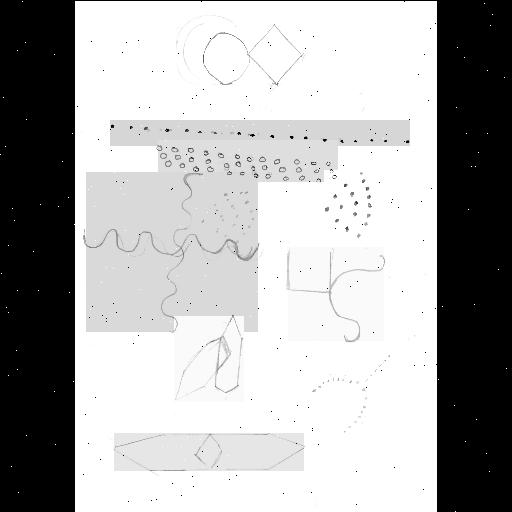shape-1: (204, 23, 302, 83)
shape-2: (110, 120, 410, 146)
shape-3: (158, 140, 338, 182)
shape-4: (324, 170, 374, 240)
shape-5: (288, 247, 384, 341)
shape-6: (316, 351, 392, 433)
shape-7: (86, 172, 258, 332)
shape-8: (174, 316, 244, 402)
shape-9: (114, 433, 304, 471)
